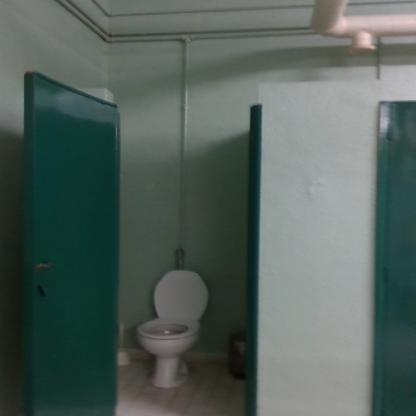closed: (349, 77, 416, 416)
open: (16, 60, 270, 416)
